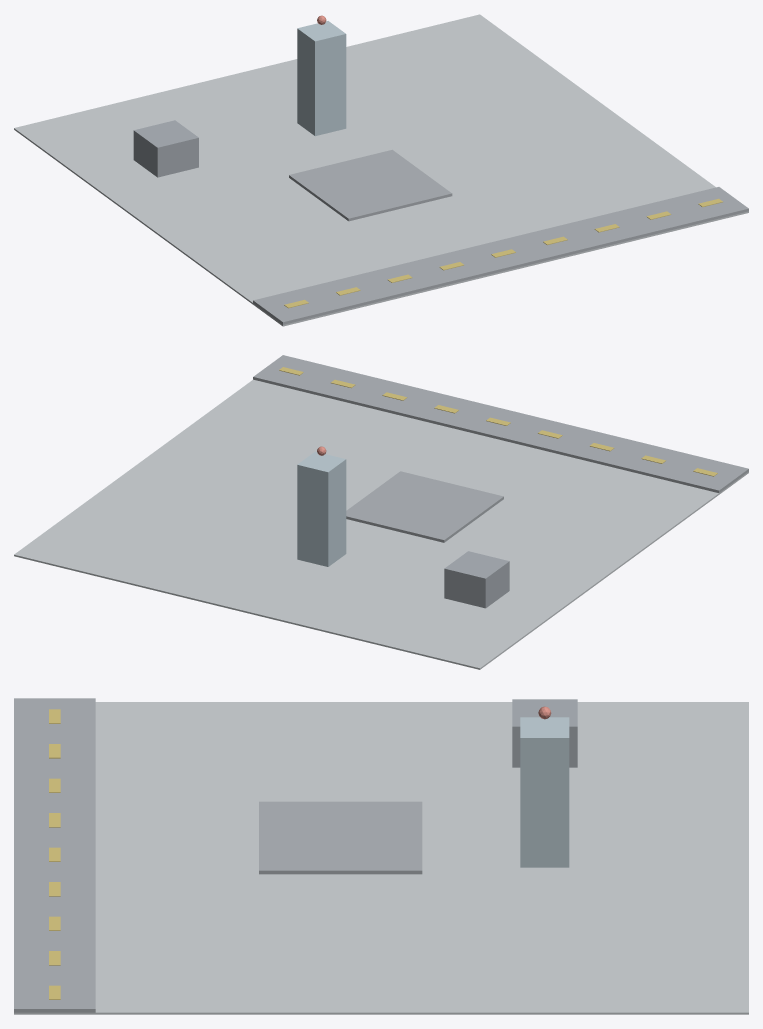
Rendered from stage_03.glb.
The picture shows the model from 3 angles, top to bottom: view 1: azimuth 30°, elevation 25°; view 2: azimuth 150°, elevation 25°; view 3: azimuth 270°, elevation 25°; orthographic projection. The views are drawn at different scales.
Visible parts, largest first — view 1: geometry_0; view 2: geometry_0; view 3: geometry_0.
Boxes of the visible parts, <box> form: geometry_0: <box>14,14,748,326</box>; geometry_0: <box>14,355,748,669</box>; geometry_0: <box>14,698,748,1014</box>.
Bounding box in the file's own units: 9 × 2.06 × 9.
